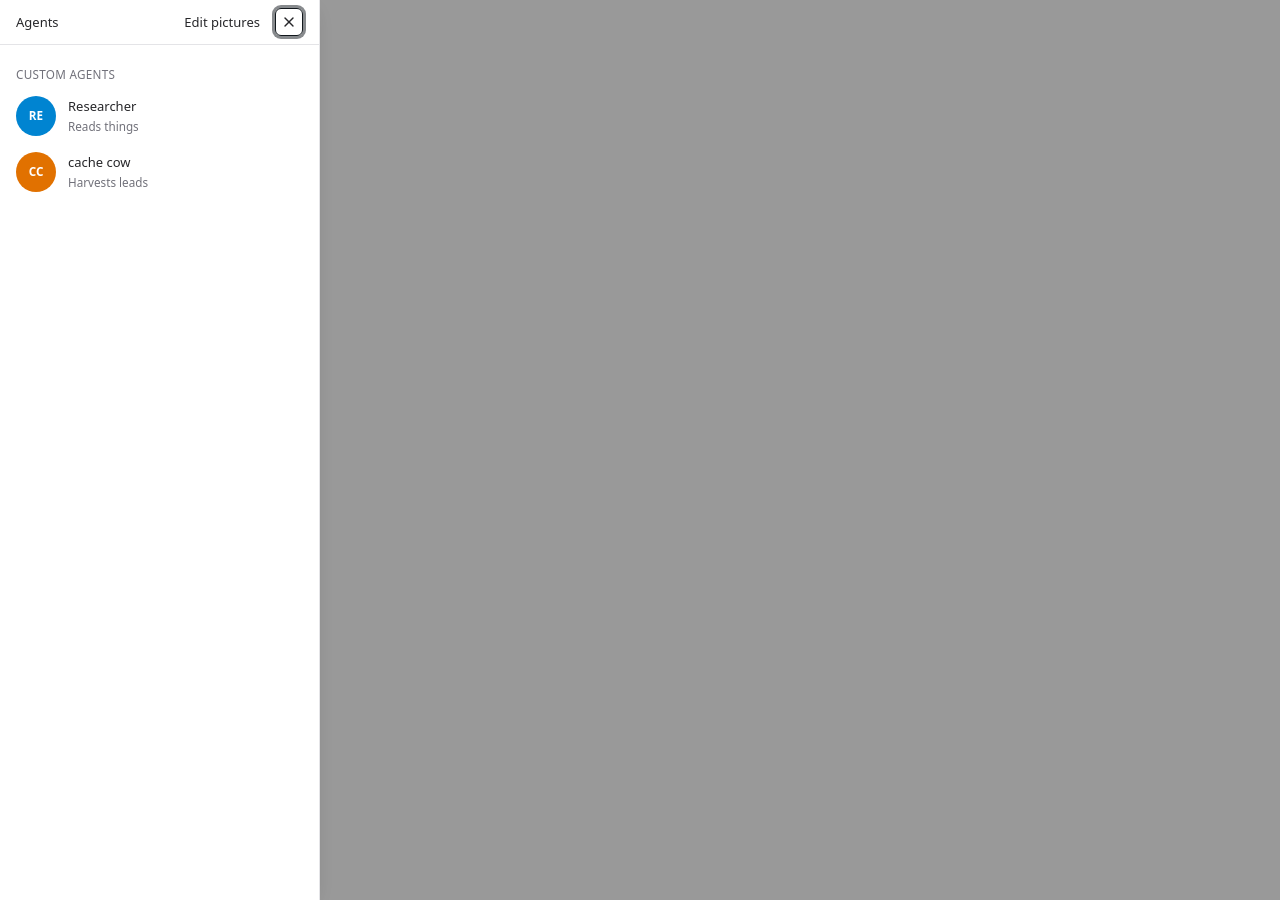
Test: setting an agent's picture › keeps the housekeeping controls out of the way until asked for
Click the button with test id "agent-drawer-edit-avatars" at (222,22), box [173,8,271,36]
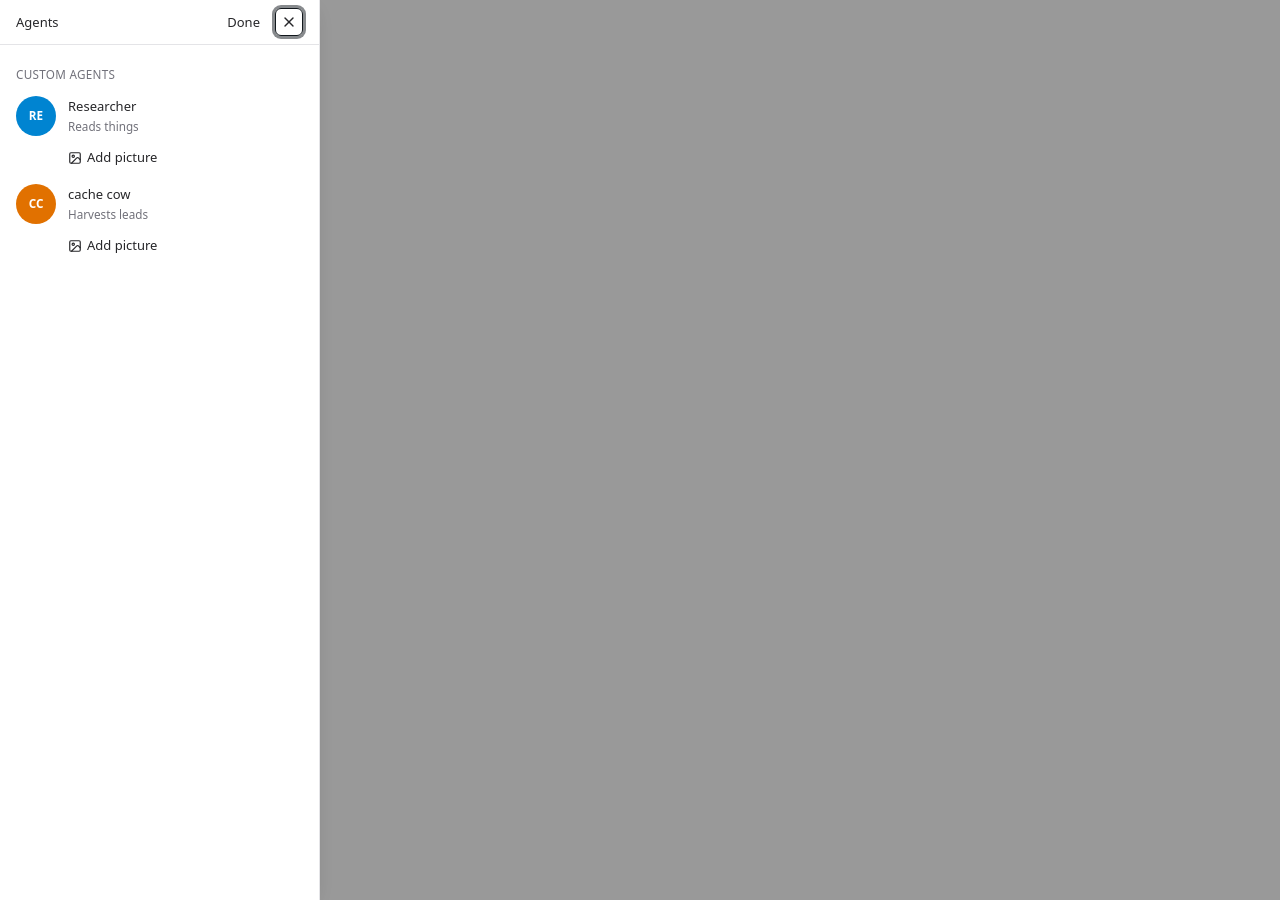
Check: the button with aria-label "Change researcher's picture" is shown, box [56,144,168,172]
